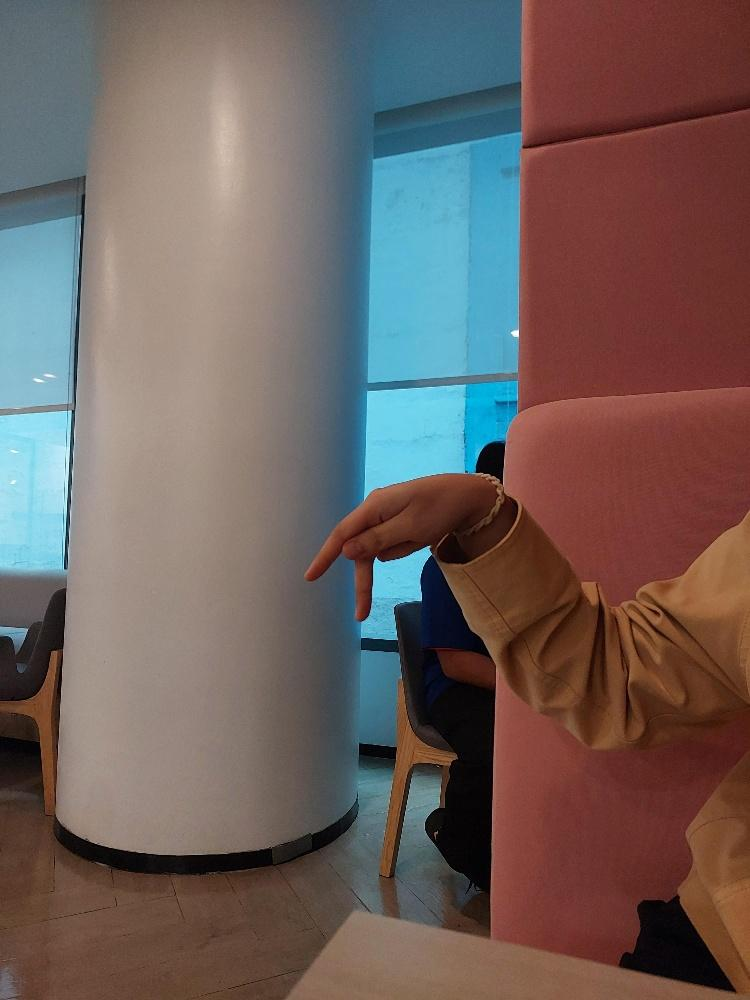p: (295, 465, 511, 627)
